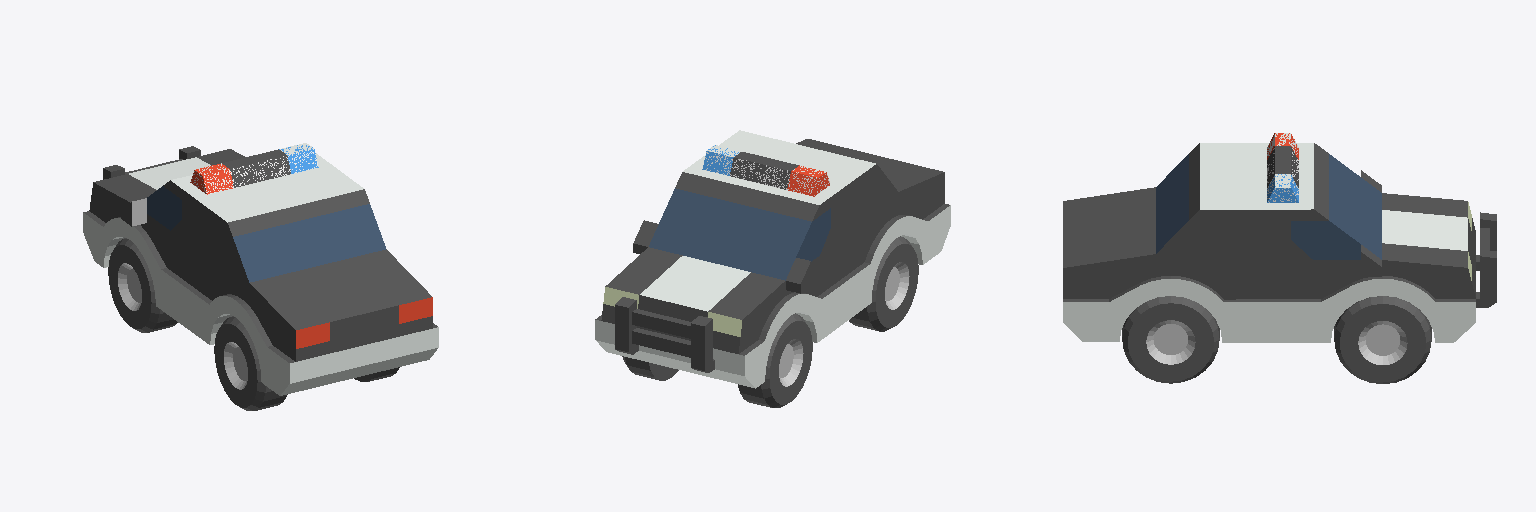
File: carPolice.obj
3 views of the same model, side by side, from view 1: azimuth 30°, elevation 25°; view 2: azimuth 150°, elevation 25°; view 3: azimuth 270°, elevation 25° (orthographic).
Parts seen in each view (by area): view 1: body 6, wheelBackLeft 6, wheelFrontLeft 6, bar 2; view 2: body 6, bar 2, wheelFrontLeft 6, wheelBackLeft 6, wheelFrontRight 6; view 3: body 6, wheelFrontRight 6, wheelBackRight 6, bar 2.
Boxes of the visible parts, x1=… form: body 6: x1=83, y1=143, x2=438, y2=395; wheelBackLeft 6: x1=214, y1=316, x2=287, y2=410; wheelFrontLeft 6: x1=108, y1=238, x2=177, y2=332; bar 2: x1=103, y1=146, x2=200, y2=179; body 6: x1=595, y1=130, x2=950, y2=388; bar 2: x1=615, y1=297, x2=714, y2=372; wheelFrontLeft 6: x1=738, y1=313, x2=812, y2=407; wheelBackLeft 6: x1=849, y1=236, x2=918, y2=331; wheelFrontRight 6: x1=622, y1=356, x2=678, y2=380; body 6: x1=1063, y1=133, x2=1475, y2=342; wheelFrontRight 6: x1=1334, y1=296, x2=1431, y2=383; wheelBackRight 6: x1=1122, y1=296, x2=1219, y2=383; bar 2: x1=1476, y1=212, x2=1496, y2=307.
Size of the model in its own units: 8.88 by 9.7 by 19.9.